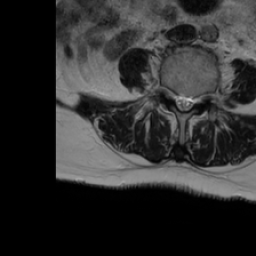CCS_stenosis: (181, 86, 187, 118)
LFS_normal: (195, 86, 204, 110)
LLS_normal: (187, 87, 195, 113)
RFS_normal: (166, 78, 173, 108)
RLS_normal: (173, 85, 181, 112)
